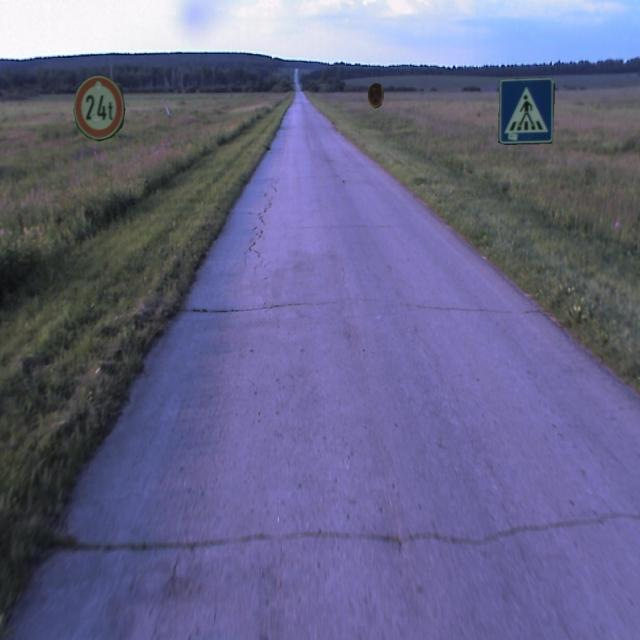road: (14, 98, 639, 639)
